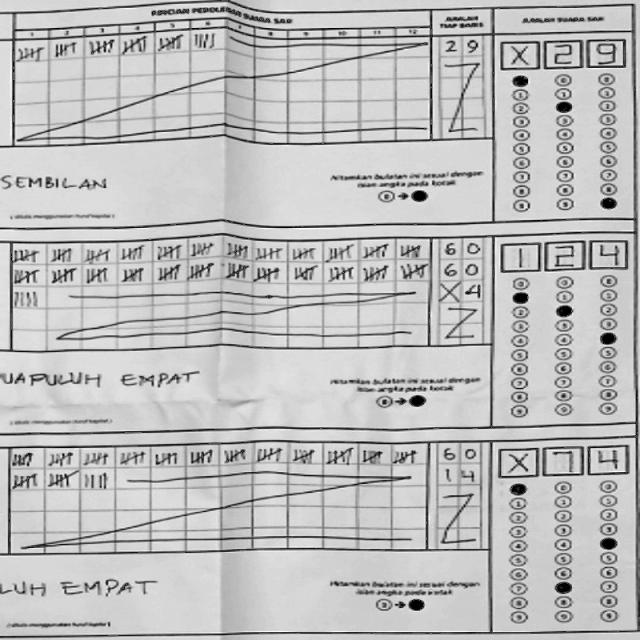Suara: (495, 36, 627, 69), (494, 442, 628, 474), (496, 239, 630, 267)
